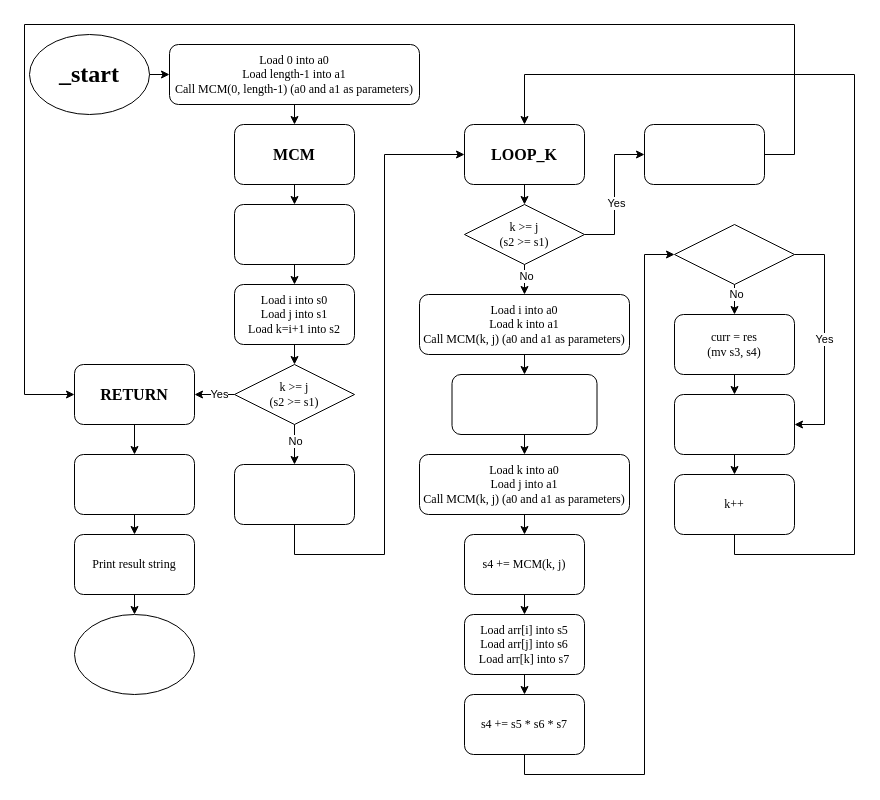
The diagram is 880 pixels wide and 800 high, and some of its shapes have lost their labels. Each missing label, with the box of its shape:
Allocate stack Save registers: (234, 204, 354, 264)
curr >= res (s4 >= s3): (674, 224, 794, 284)
END: (74, 614, 194, 694)
END_LOOP: (644, 124, 764, 184)
Initialize res Load 2047 into s3: (234, 464, 354, 524)
Load curr=MCM(i, k) into s4: (451, 374, 597, 434)
Restore registers Free stack: (74, 454, 194, 514)
SKIP_UPDATE: (674, 394, 794, 454)
